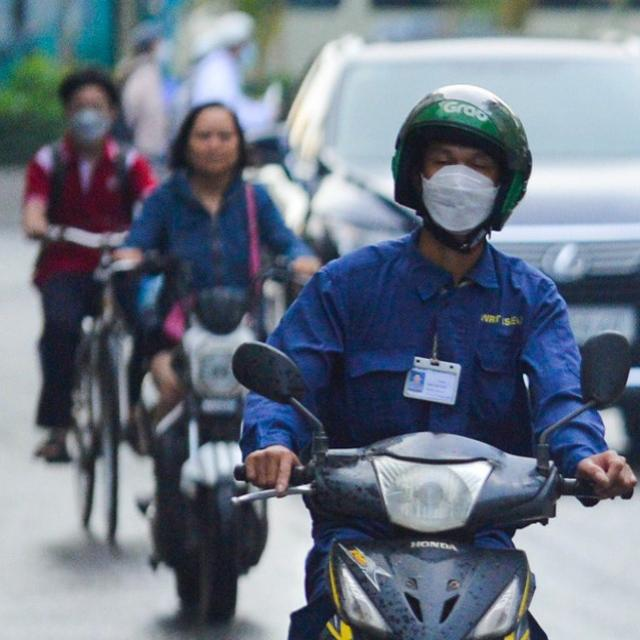3-4-helmet: (392, 84, 535, 231)
